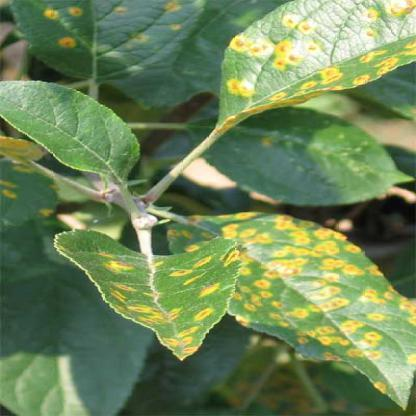Apple rust leaf: (157, 194, 415, 411), (46, 218, 254, 365), (201, 1, 415, 128), (9, 1, 211, 102)
